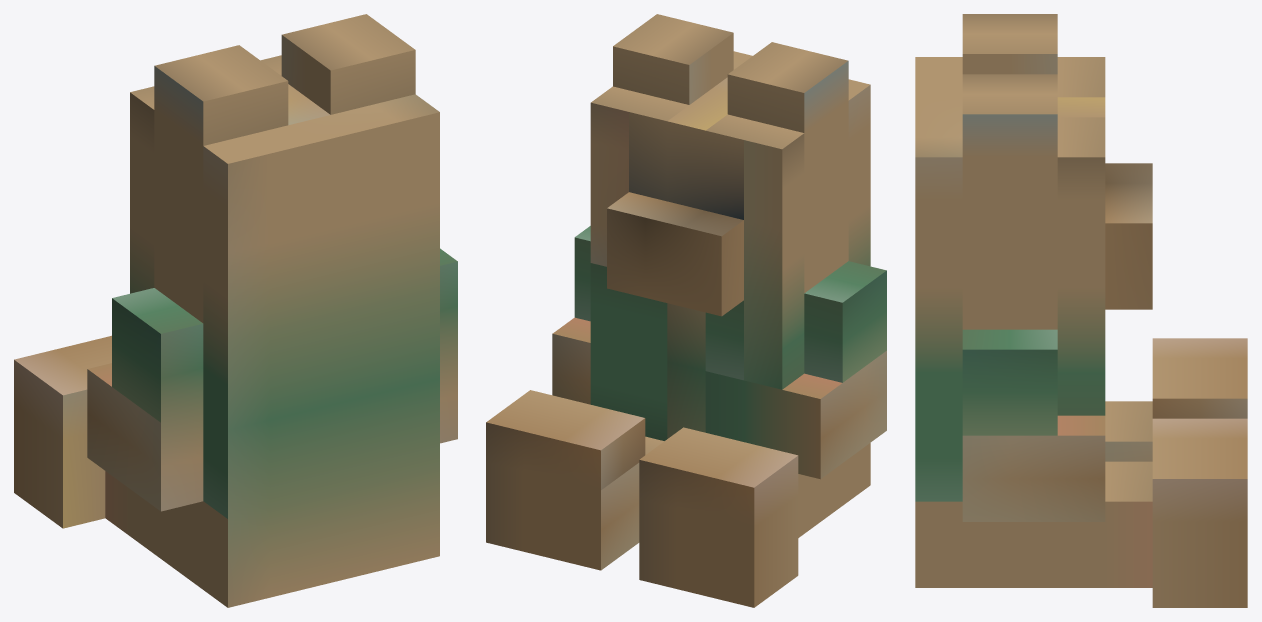
The model's file is TeddyBearBrownWithGreenShirt_00.obj.
3 renders of one model, left to right at view 1: azimuth 30°, elevation 25°; view 2: azimuth 150°, elevation 25°; view 3: azimuth 270°, elevation 25°, orthographic. The views are drawn at different scales.
Parts seen in each view (by area): view 1: TeddyBearBrownWithGreenShirt_00; view 2: TeddyBearBrownWithGreenShirt_00; view 3: TeddyBearBrownWithGreenShirt_00.
Boxes of the visible parts, x1,y1,x2,y2 form: TeddyBearBrownWithGreenShirt_00: [14, 14, 457, 607]; TeddyBearBrownWithGreenShirt_00: [486, 14, 886, 607]; TeddyBearBrownWithGreenShirt_00: [915, 14, 1247, 607].
Bounding box in the file's own units: 0.35 × 0.55 × 0.35.
